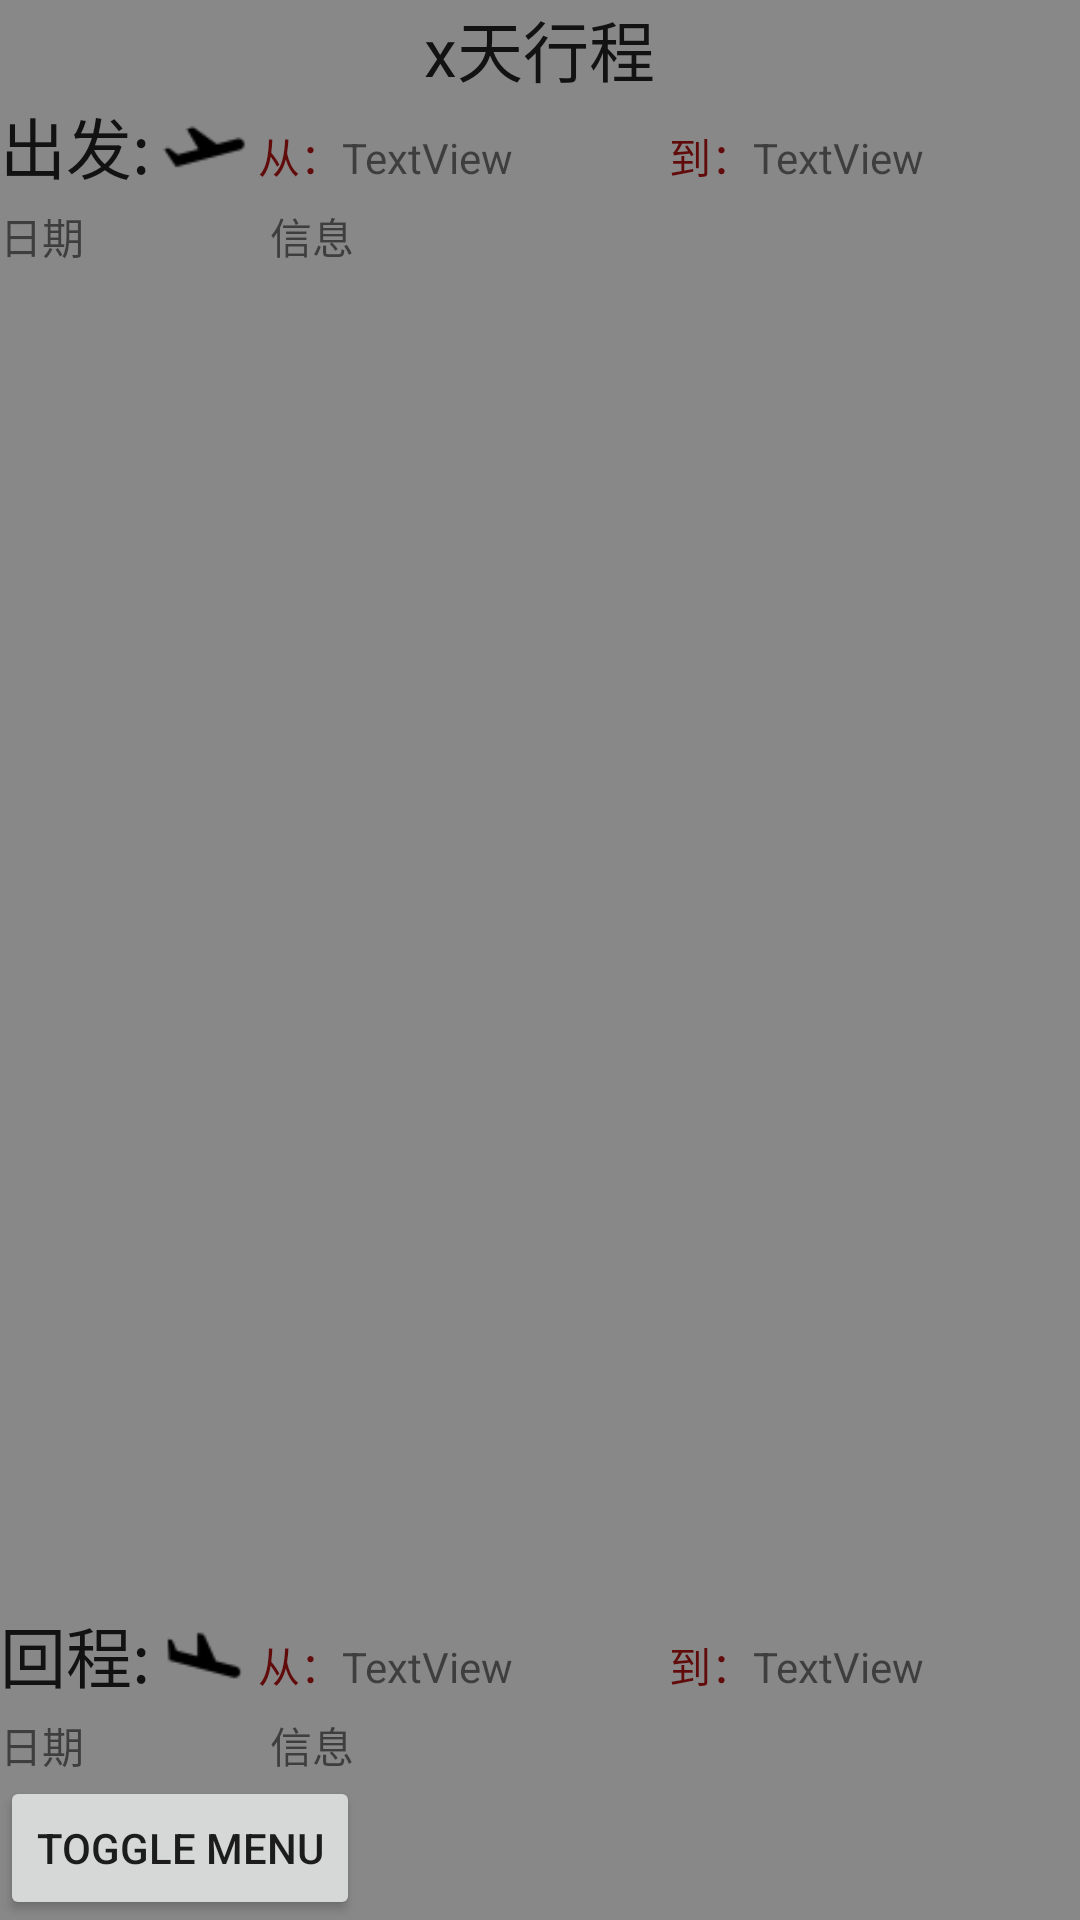

Icons on this 1080 × 1920 Android screen, each with the point to tap as point (x, y):
flight: point (204, 146), point (204, 1655)
